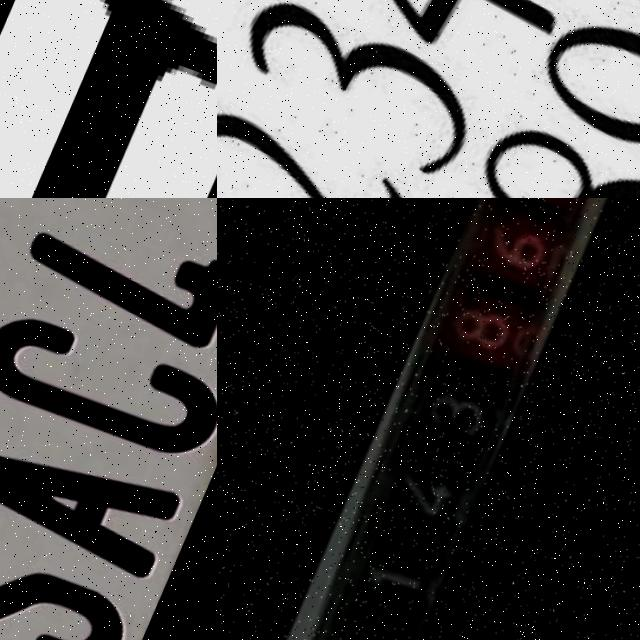1: (362, 555, 435, 606)
2: (217, 73, 457, 198)
3: (217, 0, 515, 194), (418, 387, 496, 447)
4: (11, 198, 217, 367), (266, 0, 600, 100), (392, 464, 466, 523)
5: (0, 0, 217, 198)
6: (480, 218, 553, 277)
8: (446, 99, 640, 198), (446, 299, 519, 358)
9: (510, 0, 640, 198)
A: (0, 412, 202, 589)
C: (0, 299, 217, 468)
S: (0, 515, 153, 640)
